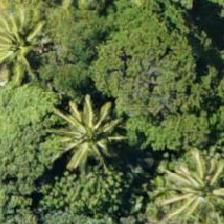coconut_tree: (39, 91, 129, 181), (0, 0, 61, 88), (156, 143, 223, 223)
